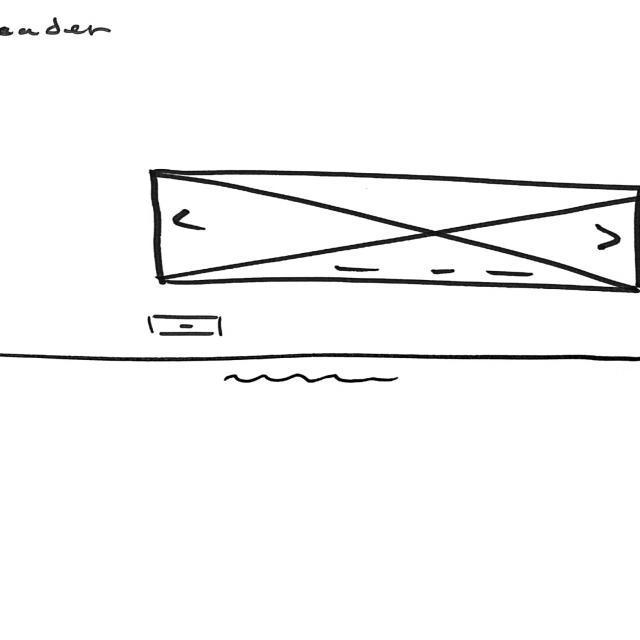icon-button: (146, 313, 228, 340)
image: (149, 167, 640, 293)
label: (2, 13, 114, 38)
text: (220, 373, 402, 388)
